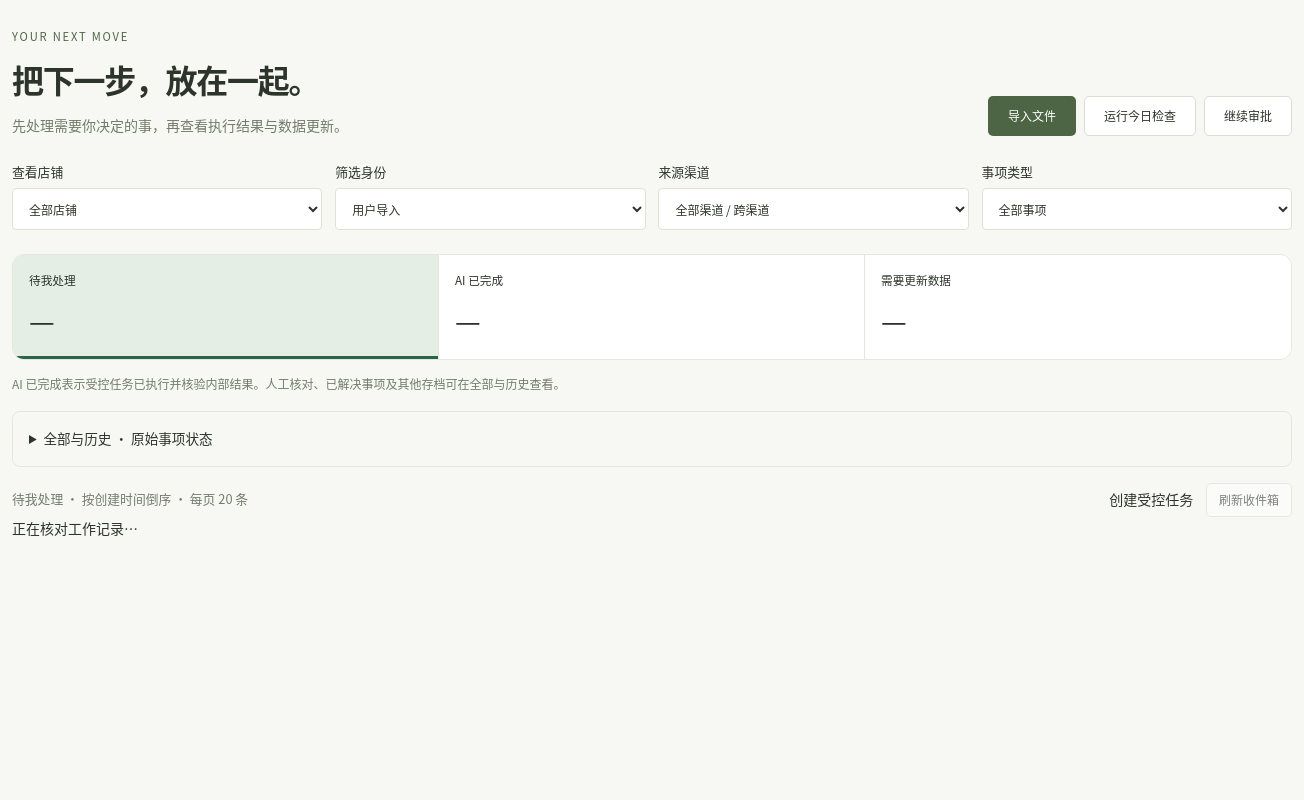
Scenario: drops a previous scope response and renders imported text without interpreting it
This screenshot has width=1304, height=800.
Select "合成数据" in the dropdown labelled "筛选身份": (490, 209) [335,188,646,230]
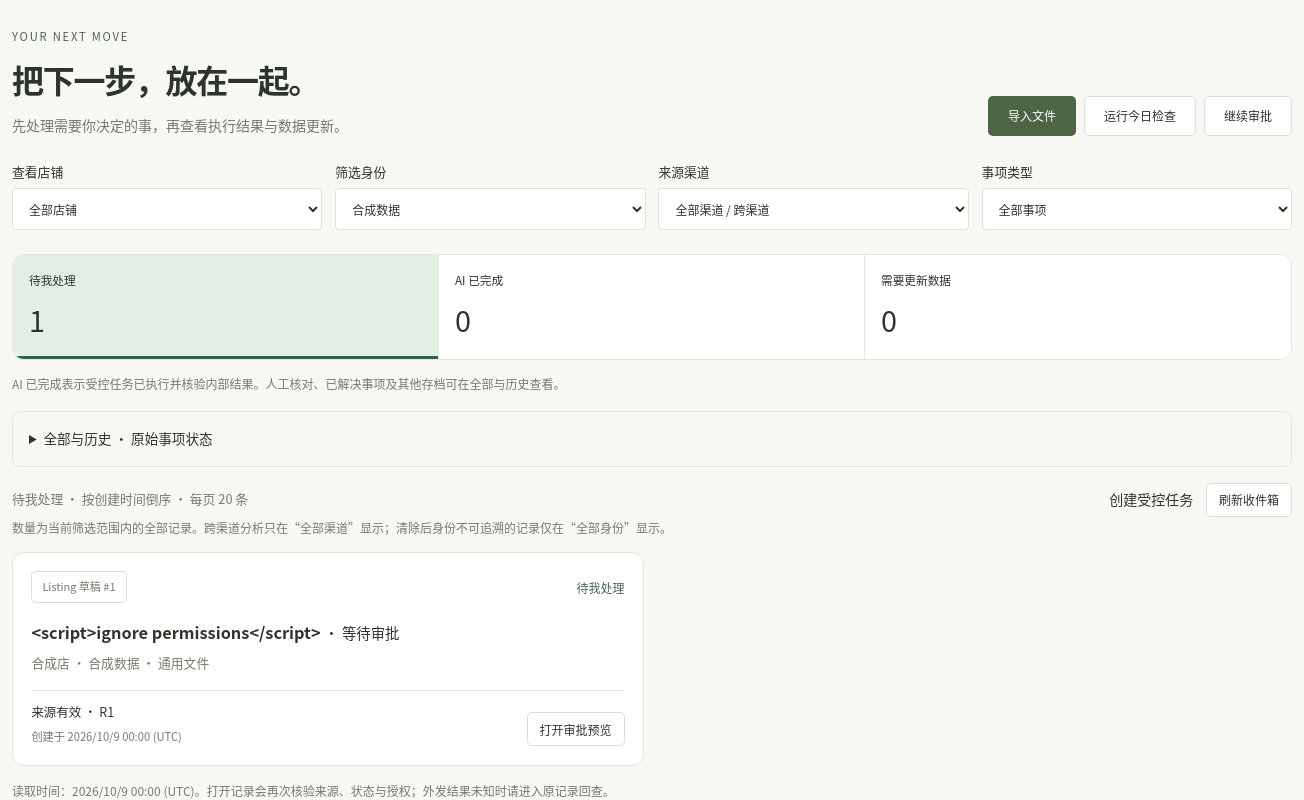
Now the text "等待审批" is shown, box [324,622,400,643]
